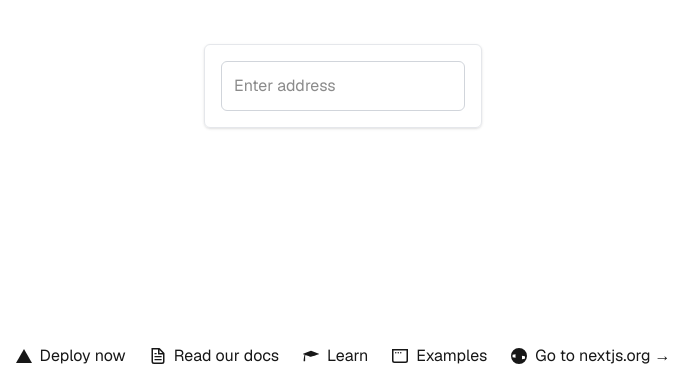
Test case: Enter Address & Receive Instant Estimate › selects a suggestion and logs the suggestion event
The image size is (684, 381).
Type "2323 E Highland Ave" into the field with placeholder "Enter address" at (343, 86), box [221,61,465,111]
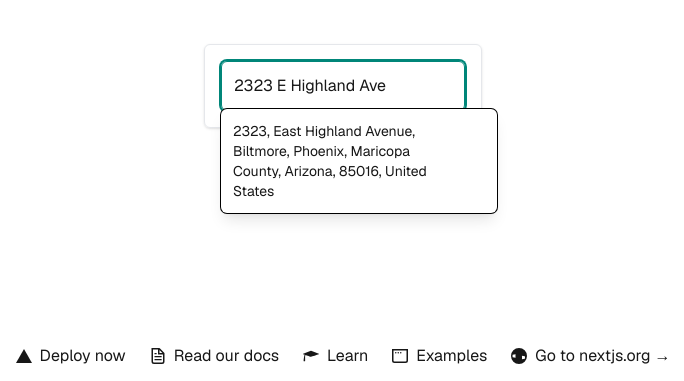
Now the list item "2323, East Highland Avenue, Biltmore, Phoenix, Maricopa County, Arizona, 85016, United States" is shown
Click the list item "2323, East Highland Avenue, Biltmore, Phoenix, Maricopa County, Arizona, 85016, United States" at (330, 161), box [233,122,427,200]
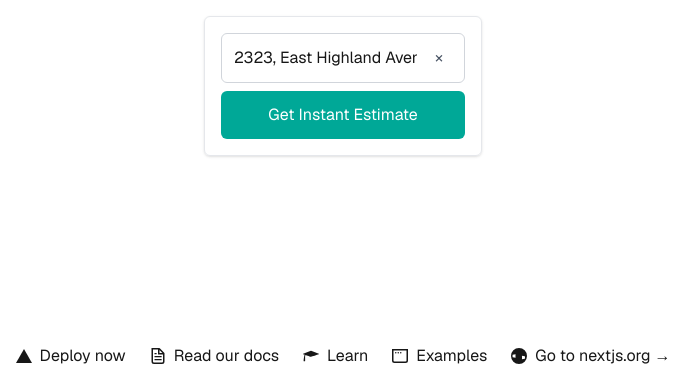
Now the field with placeholder "Enter address" holds "2323, East Highland Avenue, Biltmore, Phoenix, Maricopa County, Arizona, 85016, United States", box [221,33,465,83]
